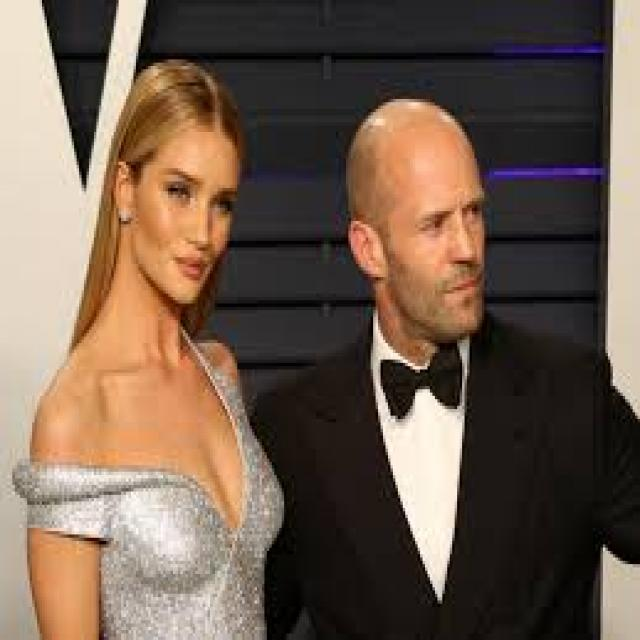bald: (335, 94, 492, 213)
nothing: (112, 63, 254, 186)
